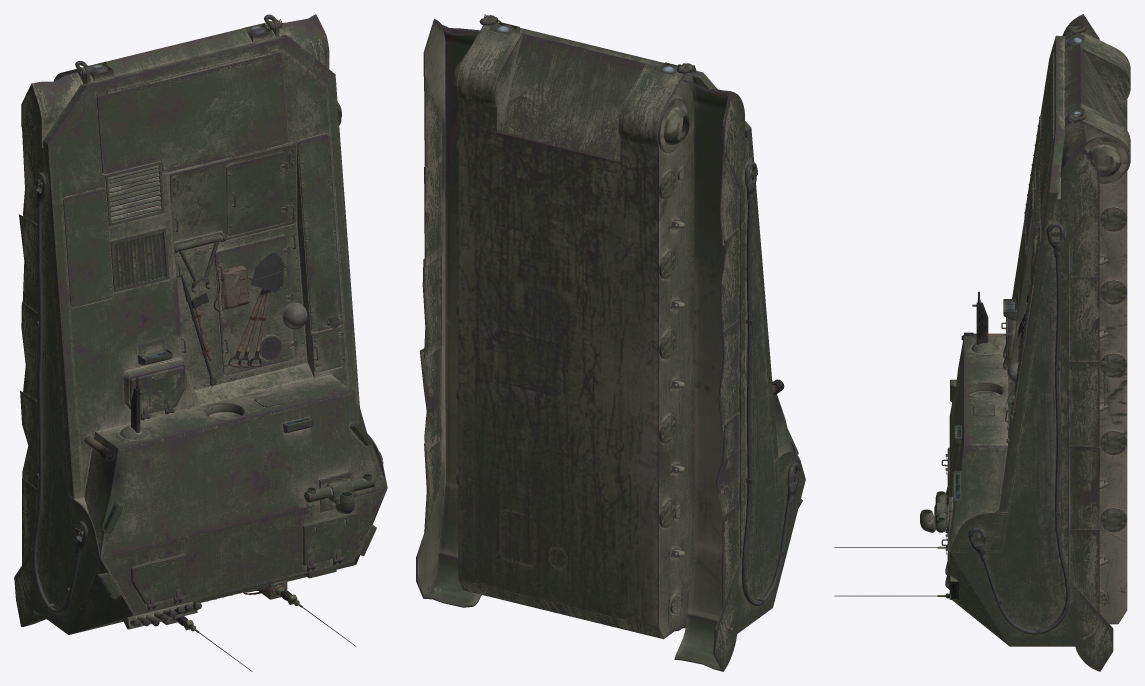
Rendered from Hull.glb.
3 renders of one model, left to right at view 1: azimuth 30°, elevation 25°; view 2: azimuth 150°, elevation 25°; view 3: azimuth 270°, elevation 25°, orthographic. The views are drawn at different scales.
Visible parts, largest first — view 1: set_0_group_0; view 2: set_0_group_0; view 3: set_0_group_0.
Part boxes in pixels (x1,y1,x2,y2): set_0_group_0: [14, 14, 387, 671]; set_0_group_0: [416, 14, 805, 671]; set_0_group_0: [834, 14, 1130, 671].
Bounding box in the file's own units: 3.04 × 5.4 × 2.71.
Materials: 1 (1 with a texture image).
